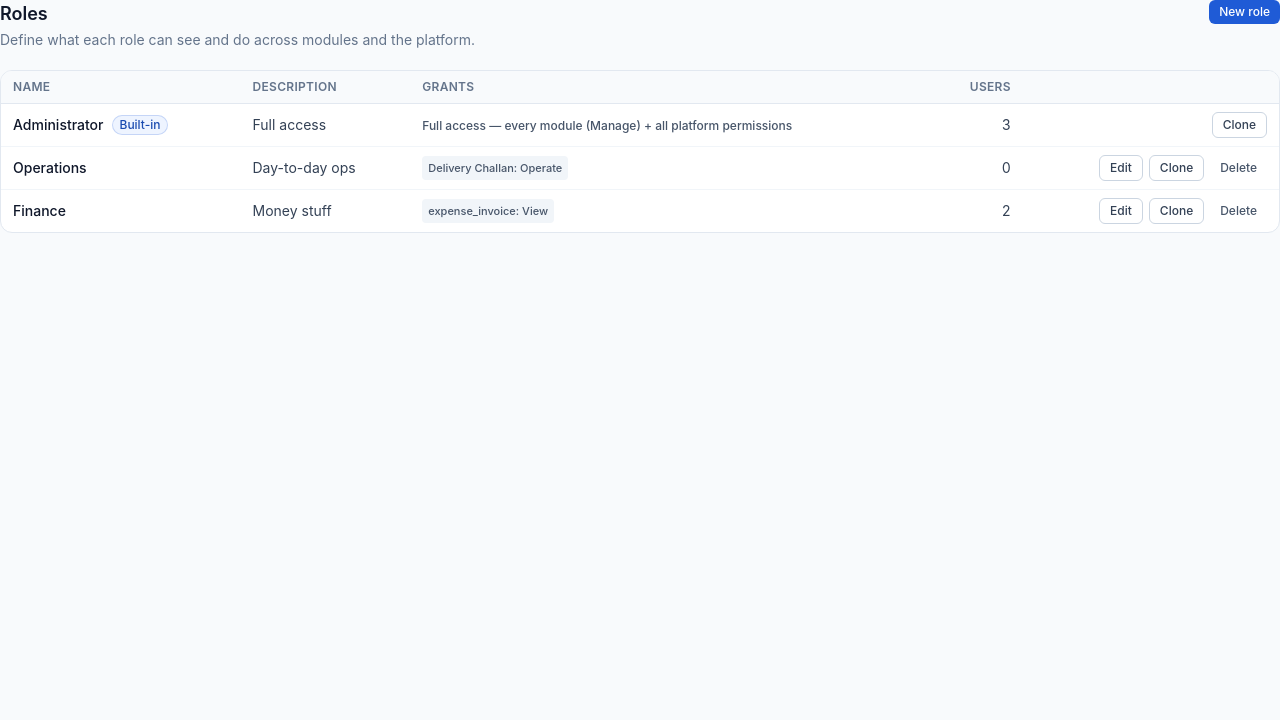
it: RolesModule › surfaces a 409 "role in use" message and keeps the dialog open
This screenshot has width=1280, height=720.
Note: Finance (id 3) is the second editable row and is still held by 2 users.
Step 1. Click the button "Delete" in the row of "Finance" → (1239, 211), box [1210,198,1267,224]
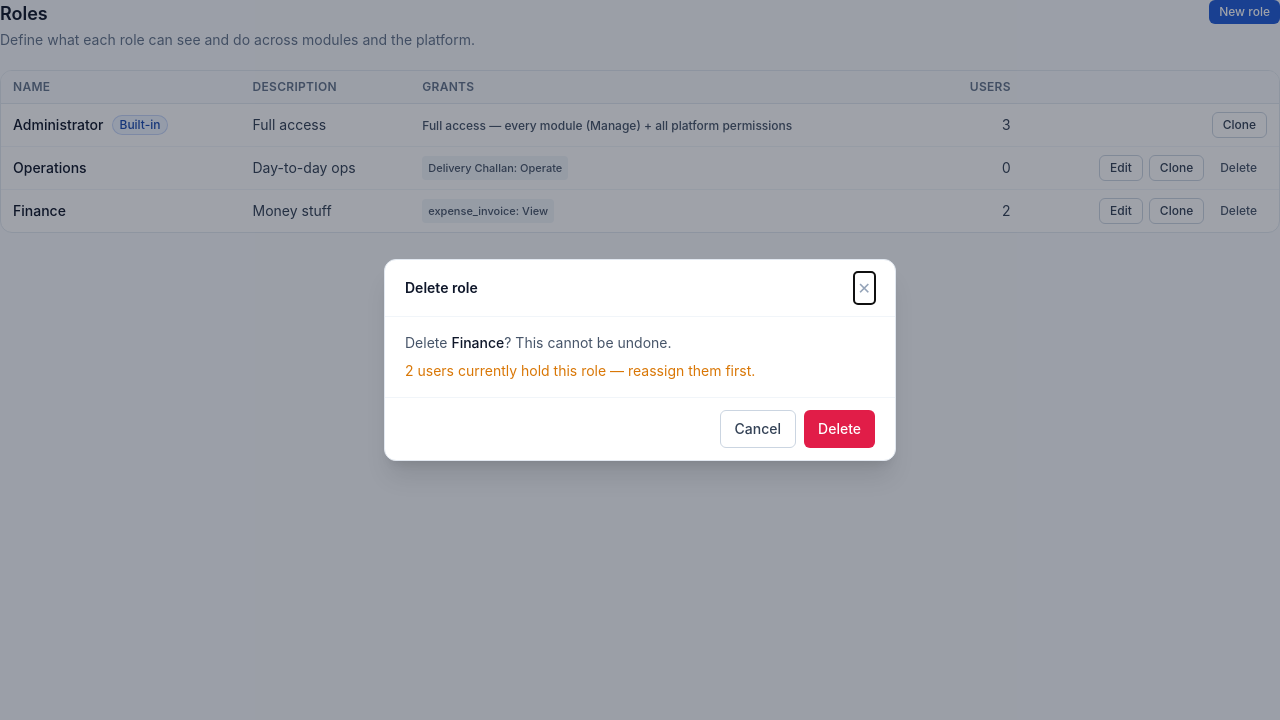
Step 2. Click the button "Delete" → (840, 429), box [804,410,875,448]
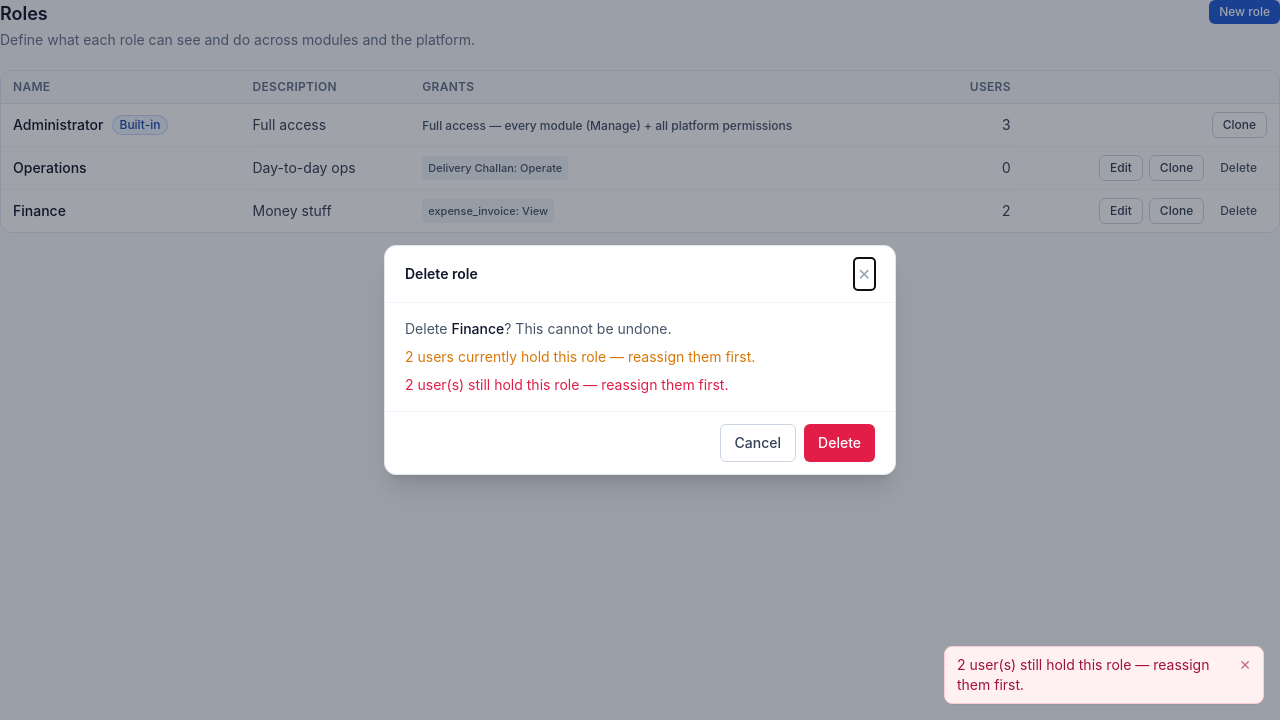
Now the text "2 user(s) still hold this role — reassign them first." is shown, box [405,376,728,393]
